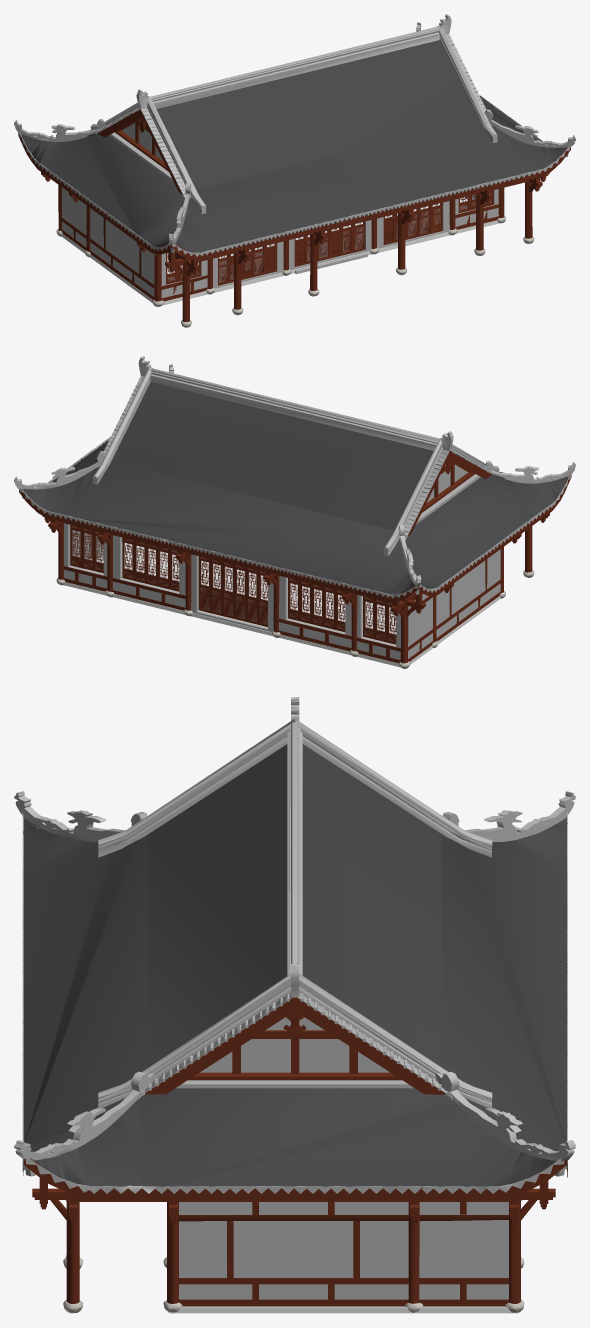
The picture shows the model from 3 angles, top to bottom: view 1: azimuth 30°, elevation 25°; view 2: azimuth 150°, elevation 25°; view 3: azimuth 270°, elevation 25°; orthographic projection. The views are drawn at different scales.
Parts seen in each view (by area): view 1: qingmo_001572d6-e02e-4c6d-8c1f-057d05fc5298; view 2: qingmo_001572d6-e02e-4c6d-8c1f-057d05fc5298; view 3: qingmo_001572d6-e02e-4c6d-8c1f-057d05fc5298.
Part boxes in pixels (bbox=[...]): qingmo_001572d6-e02e-4c6d-8c1f-057d05fc5298: bbox=[14, 14, 575, 327]; qingmo_001572d6-e02e-4c6d-8c1f-057d05fc5298: bbox=[14, 356, 575, 668]; qingmo_001572d6-e02e-4c6d-8c1f-057d05fc5298: bbox=[14, 697, 575, 1313].
Size of the model in its own units: 1.24 by 0.5405 by 0.8316.
